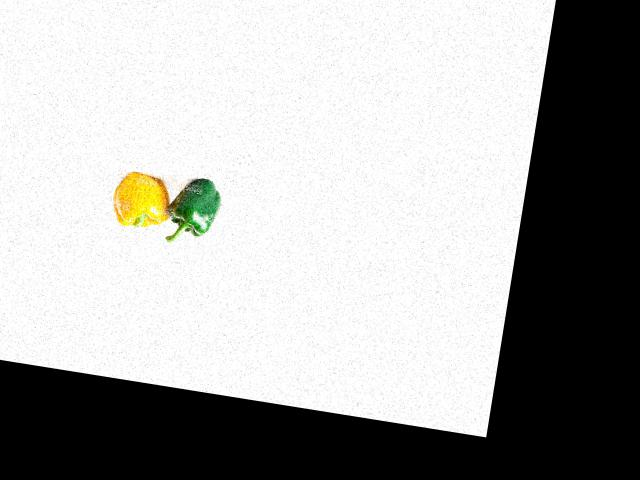bell_pepper: (164, 165, 230, 244)
